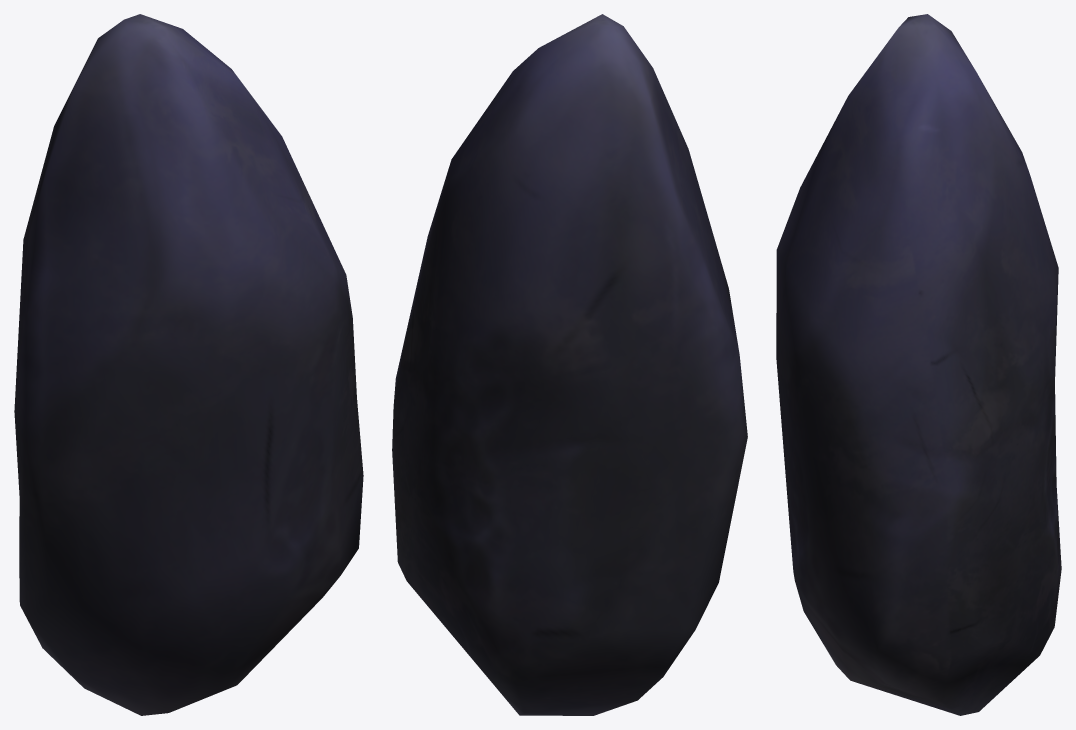
File: SM_Gem_Obsidian_006.fbx
3 renders of one model, left to right at view 1: azimuth 30°, elevation 25°; view 2: azimuth 150°, elevation 25°; view 3: azimuth 270°, elevation 25°, orthographic. The views are drawn at different scales.
Visible parts, largest first — view 1: SM_Gem_Obsidian_006; view 2: SM_Gem_Obsidian_006; view 3: SM_Gem_Obsidian_006.
Part boxes in pixels (x1,y1,x2,y2): SM_Gem_Obsidian_006: (14,14,363,715); SM_Gem_Obsidian_006: (392,14,747,715); SM_Gem_Obsidian_006: (776,14,1061,715).
Size of the model in its own units: 32.48 by 65.15 by 25.06.
